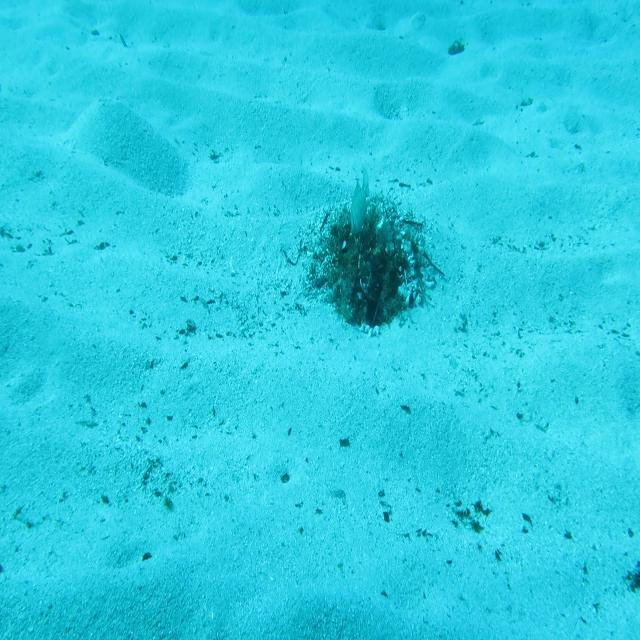NIP_CORE: (348, 171, 373, 247)
nest: (308, 188, 434, 324)
